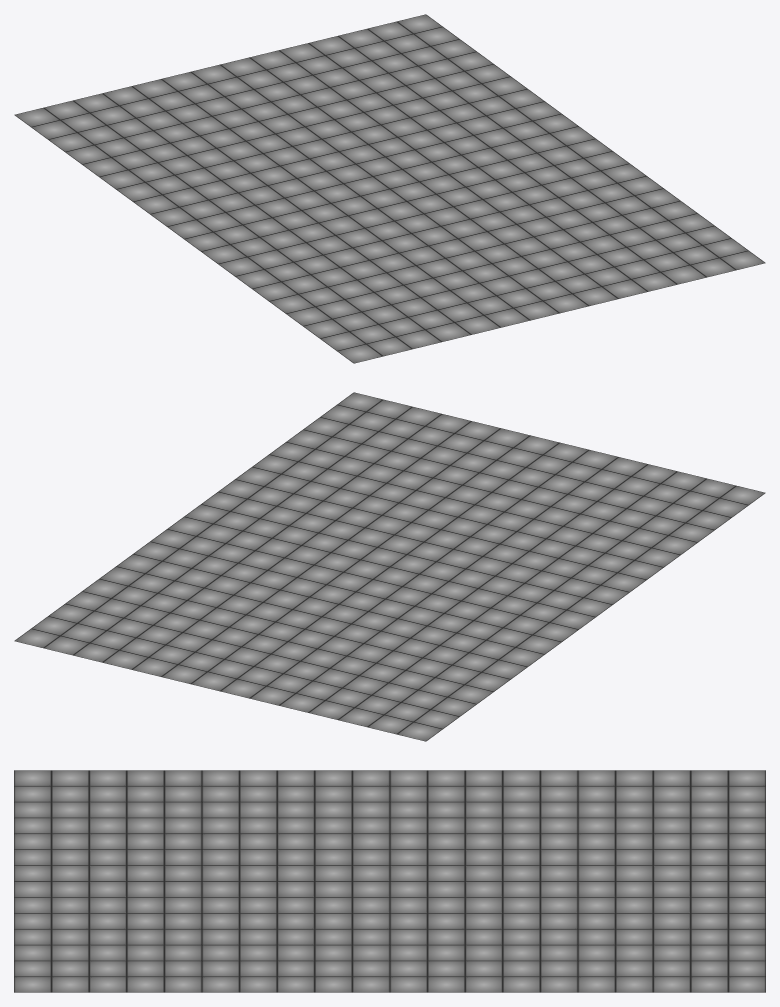
The model's file is DanceFloor.FBX.
3 renders of one model, top to bottom at view 1: azimuth 30°, elevation 25°; view 2: azimuth 150°, elevation 25°; view 3: azimuth 270°, elevation 25°, orthographic. The views are drawn at different scales.
Parts seen in each view (by area): view 1: Tile2, Tile1; view 2: Tile1, Tile2; view 3: Tile1, Tile2.
Part boxes in pixels (<box>): Tile2: <box>14,21,765,356</box>; Tile1: <box>31,14,748,363</box>; Tile1: <box>14,399,765,734</box>; Tile2: <box>31,392,748,741</box>; Tile1: <box>14,770,765,992</box>; Tile2: <box>14,770,765,992</box>.
Bounding box in the file's own units: 140 × 8.74e-06 × 200.
2 materials, 2 textured.
